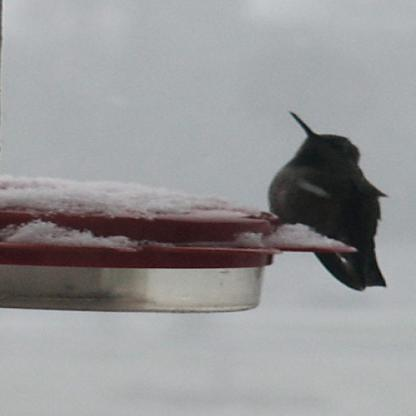bird: (267, 110, 391, 292)
